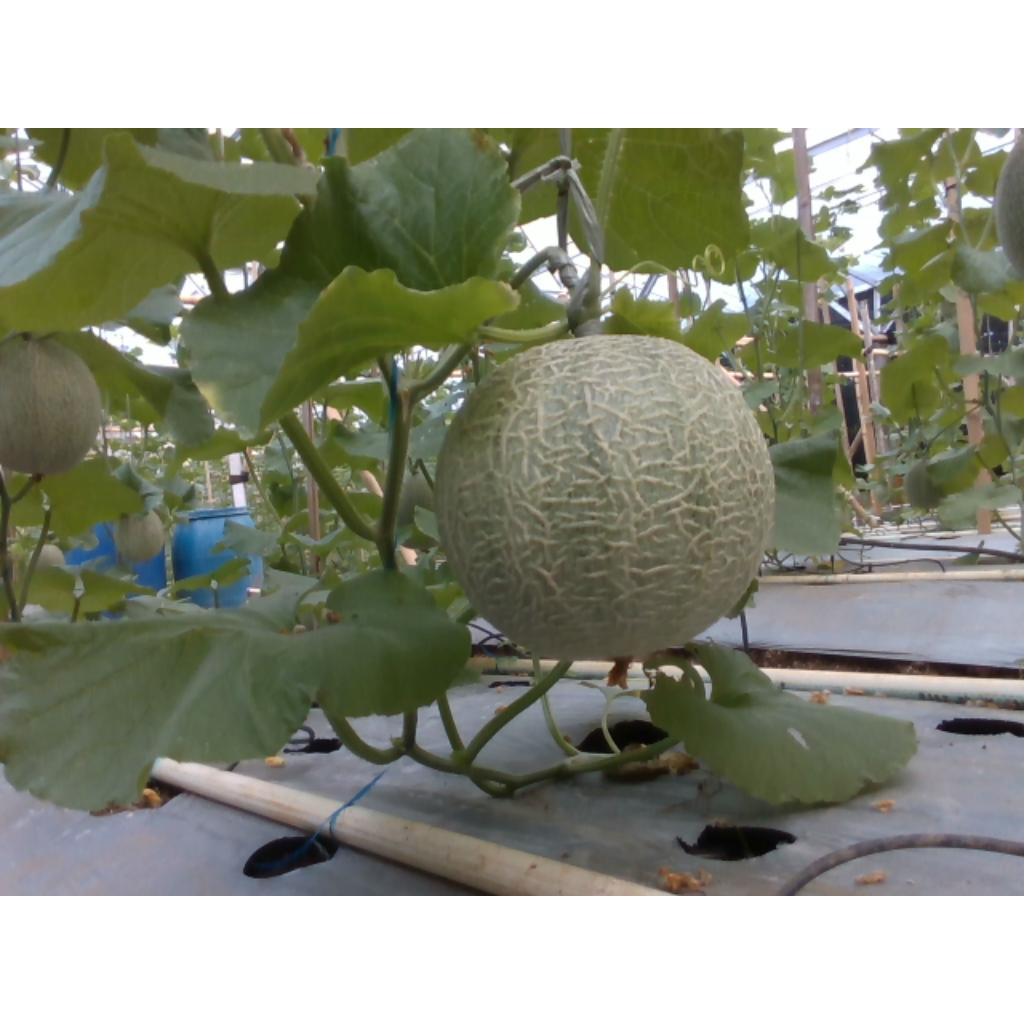melon: (442, 334, 776, 660)
